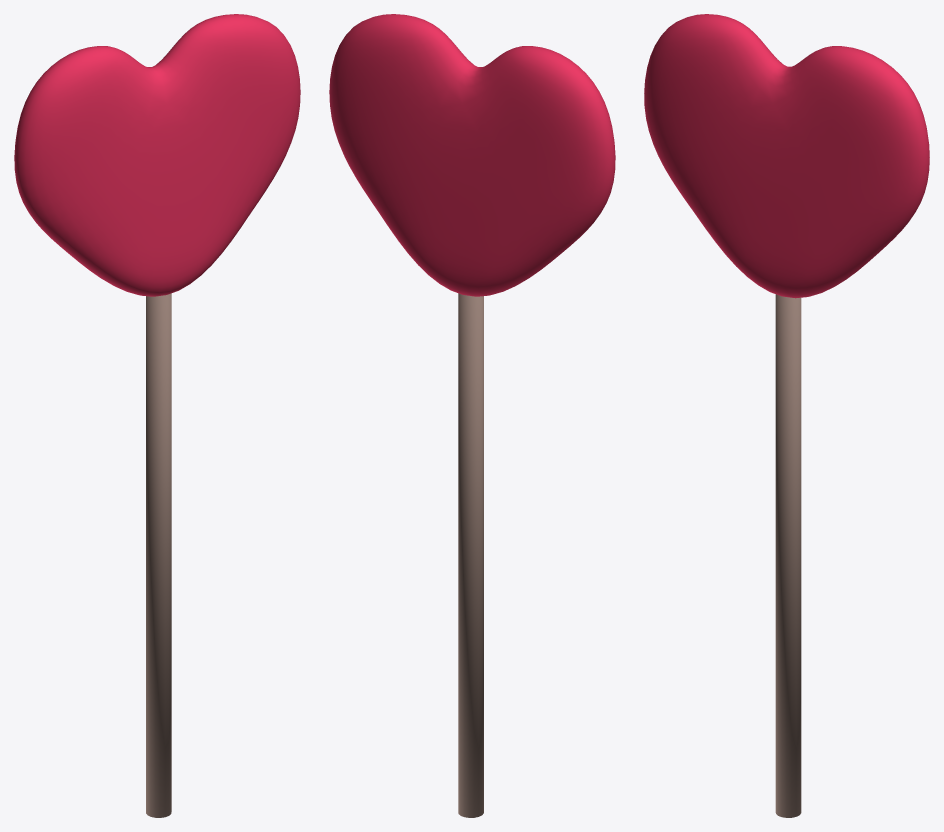
The model's file is lizak serduszko.fbx.
3 renders of one model, left to right at view 1: azimuth 30°, elevation 25°; view 2: azimuth 150°, elevation 25°; view 3: azimuth 330°, elevation 25°, orthographic.
Parts seen in each view (by area): view 1: Plane; view 2: Plane; view 3: Plane.
Part boxes in pixels (left/top/right/bottom): Plane: left=14, top=14, right=300, bottom=817; Plane: left=329, top=14, right=615, bottom=817; Plane: left=644, top=14, right=929, bottom=817.
Size of the model in its own units: 178 by 469 by 32.05.
